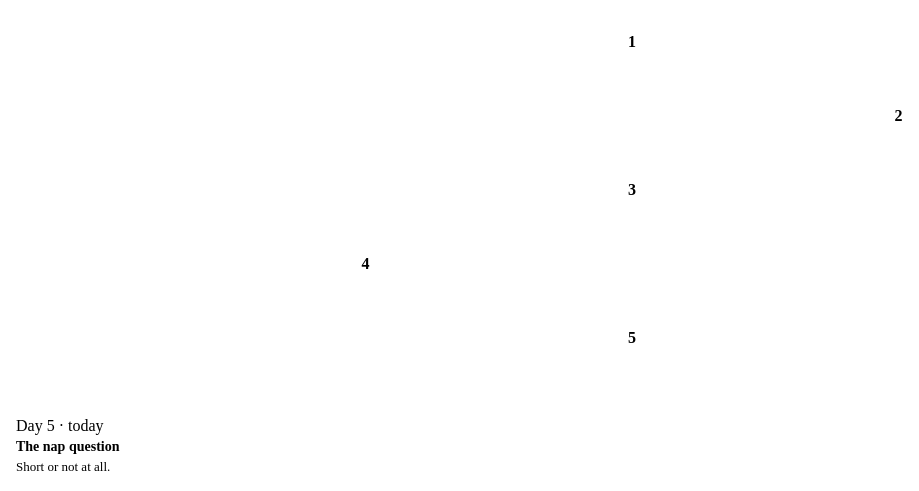
nothing is ever locked › opens a day already gone
Click the button named "Day 1". click: x=632, y=42
box: [607, 17, 657, 67]
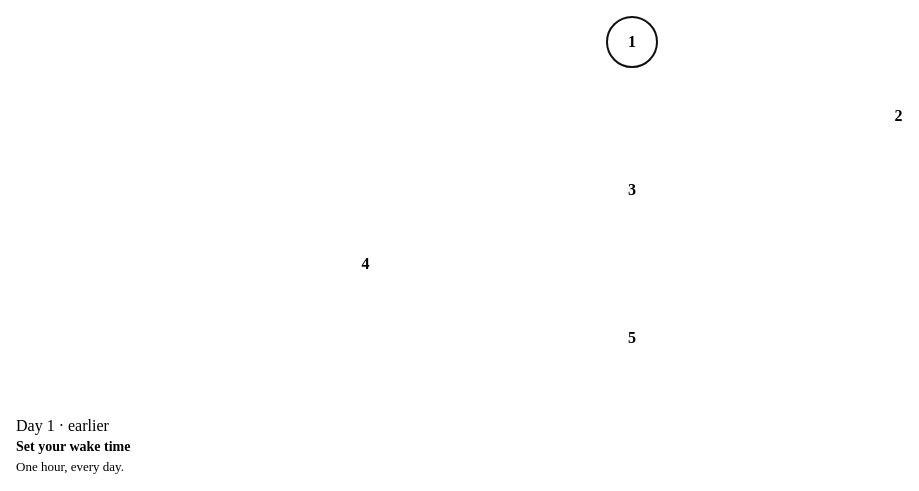
Expected: the heading "Set your wake time" is shown, [16, 439, 130, 454]
